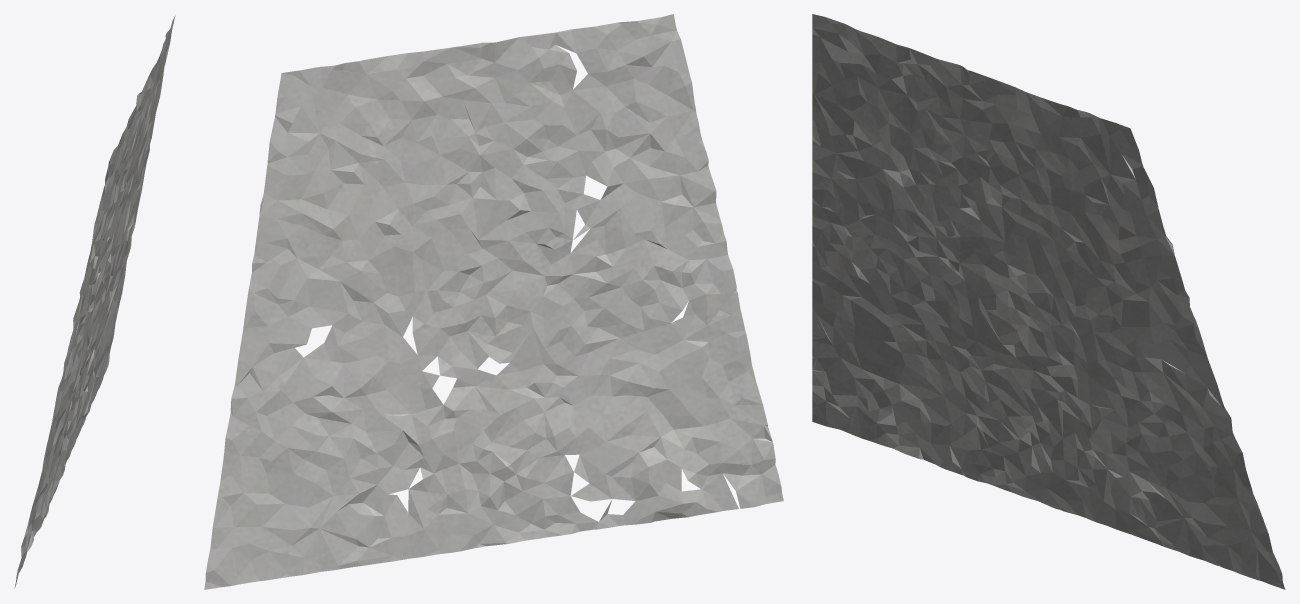
The picture shows the model from 3 angles, left to right: view 1: azimuth 30°, elevation 25°; view 2: azimuth 150°, elevation 25°; view 3: azimuth 270°, elevation 25°; orthographic projection. The views are drawn at different scales.
Size of the model in its own units: 0.6543 by 0.8374 by 0.7782.
Materials: 3 (3 with a texture image).
